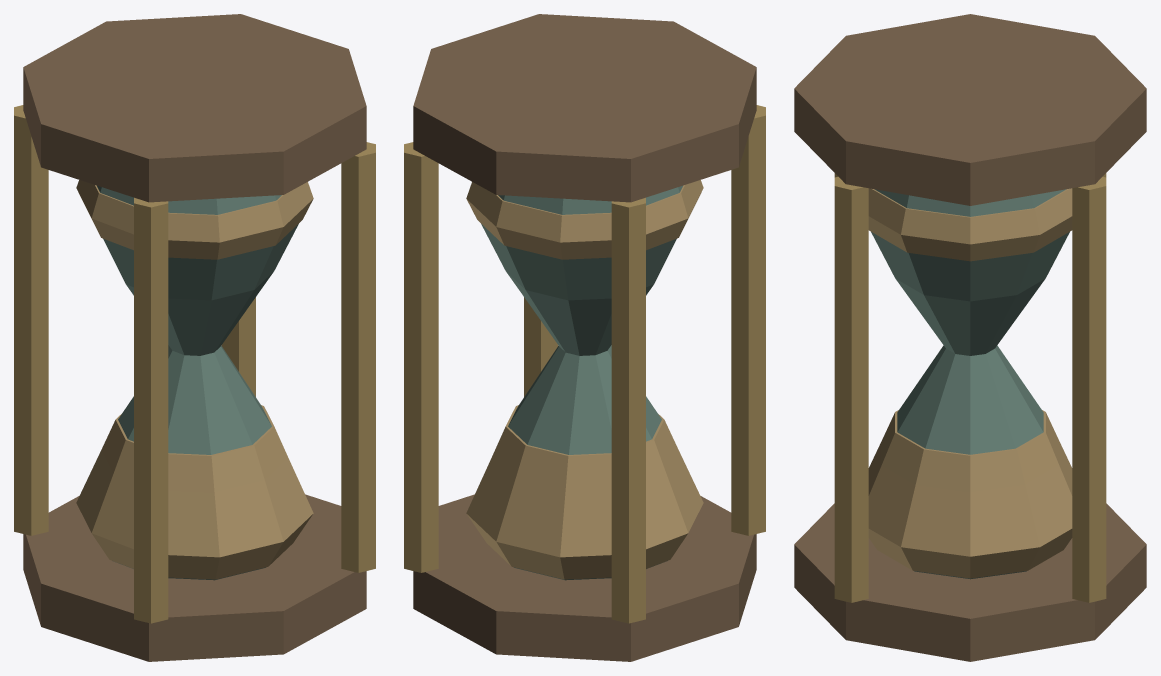
File: SWP_WatchHourglass.fbx
3 views of the same model, side by side, from view 1: azimuth 30°, elevation 25°; view 2: azimuth 150°, elevation 25°; view 3: azimuth 270°, elevation 25° (orthographic).
Visible parts, largest first — view 1: SWP_WatchHourglass; view 2: SWP_WatchHourglass; view 3: SWP_WatchHourglass.
Boxes of the visible parts, bbox=[...] form: SWP_WatchHourglass: bbox=[14, 14, 375, 661]; SWP_WatchHourglass: bbox=[404, 14, 765, 661]; SWP_WatchHourglass: bbox=[794, 14, 1146, 661].
Bounding box in the file's own units: 0.178 × 0.278 × 0.178.
